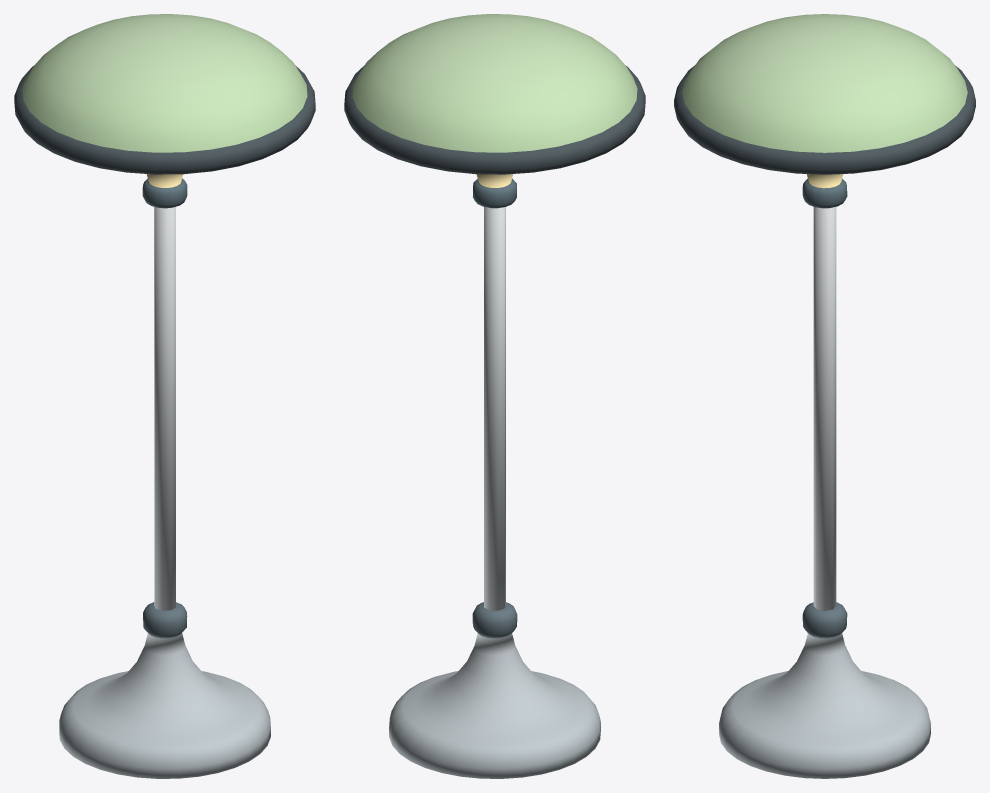
File: Light_15.glb
3 renders of one model, left to right at view 1: azimuth 30°, elevation 25°; view 2: azimuth 150°, elevation 25°; view 3: azimuth 270°, elevation 25°, orthographic.
Visible parts, largest first — view 1: Light_15; view 2: Light_15; view 3: Light_15.
Boxes of the visible parts, box(x1,y1,x2,y2) form: Light_15: box(14, 14, 315, 778); Light_15: box(344, 14, 645, 778); Light_15: box(674, 14, 975, 778).
Size of the model in its own units: 0.5621 by 1.43 by 0.5621.
1 material, 1 textured.
